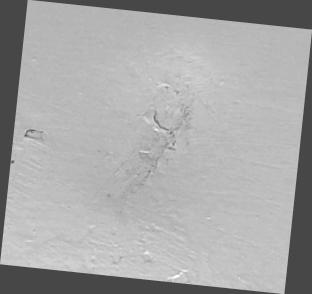dent: (1, 0, 312, 293)
